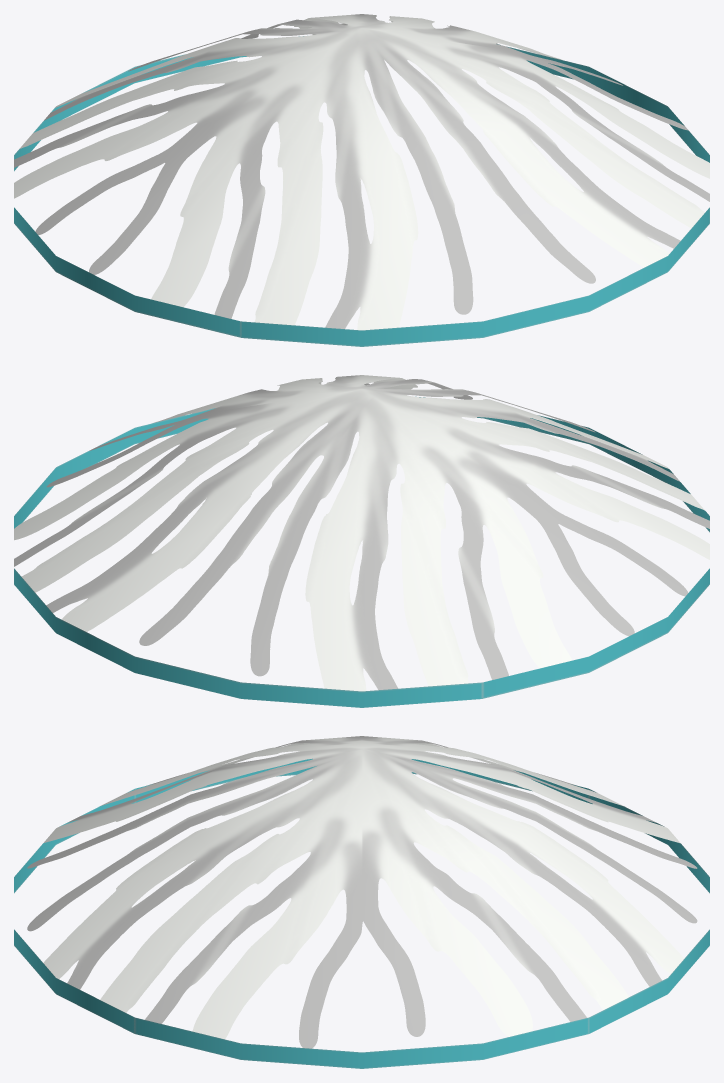
Rendered from ShieldTransparent.FBX.
3 views of the same model, one above another, from view 1: azimuth 30°, elevation 25°; view 2: azimuth 150°, elevation 25°; view 3: azimuth 270°, elevation 25° (orthographic).
Parts seen in each view (by area): view 1: Cylinder001; view 2: Cylinder001; view 3: Cylinder001.
Boxes of the visible parts, box(x1,y1,x2,y2) form: Cylinder001: box(14, 14, 709, 346); Cylinder001: box(14, 375, 709, 707); Cylinder001: box(14, 736, 709, 1068).
Size of the model in its own units: 279 by 73.81 by 275.
Materials: 1 (1 with a texture image).
